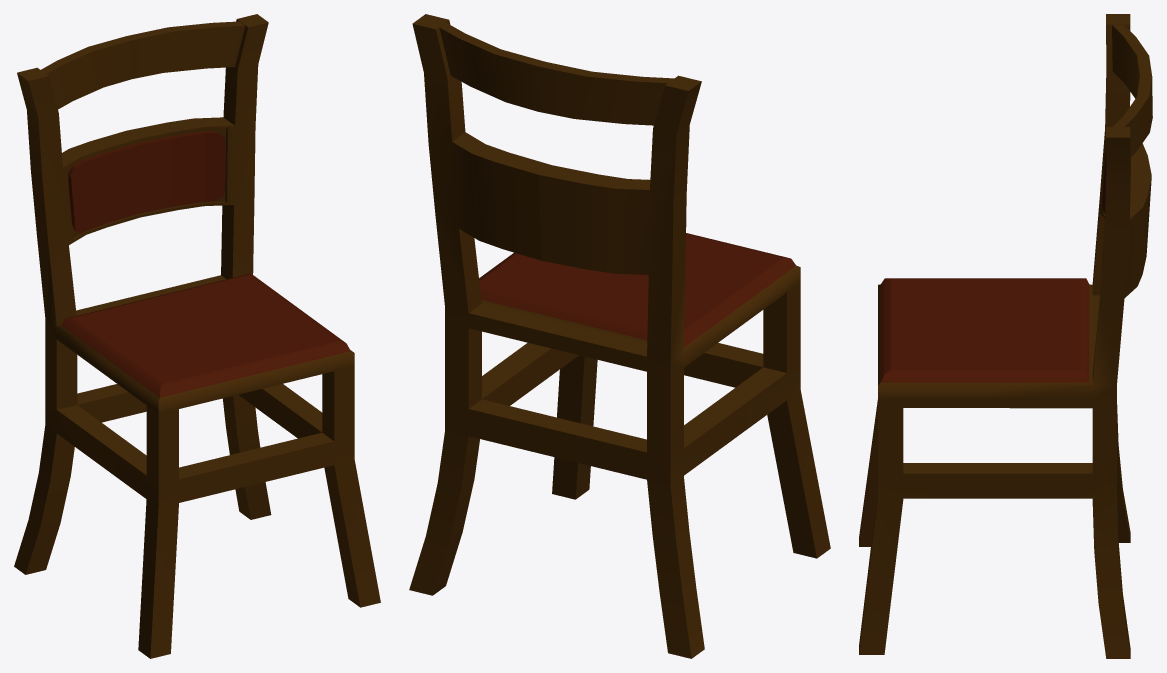
Rendered from Cadeira (1).fbx.
3 renders of one model, left to right at view 1: azimuth 30°, elevation 25°; view 2: azimuth 150°, elevation 25°; view 3: azimuth 270°, elevation 25°, orthographic. The views are drawn at different scales.
Visible parts, largest first — view 1: Cube; view 2: Cube; view 3: Cube.
Boxes of the visible parts, <box> form: Cube: <box>14,14,380,658</box>; Cube: <box>409,14,830,658</box>; Cube: <box>859,14,1152,658</box>.
Size of the model in its own units: 251 by 480 by 246.
